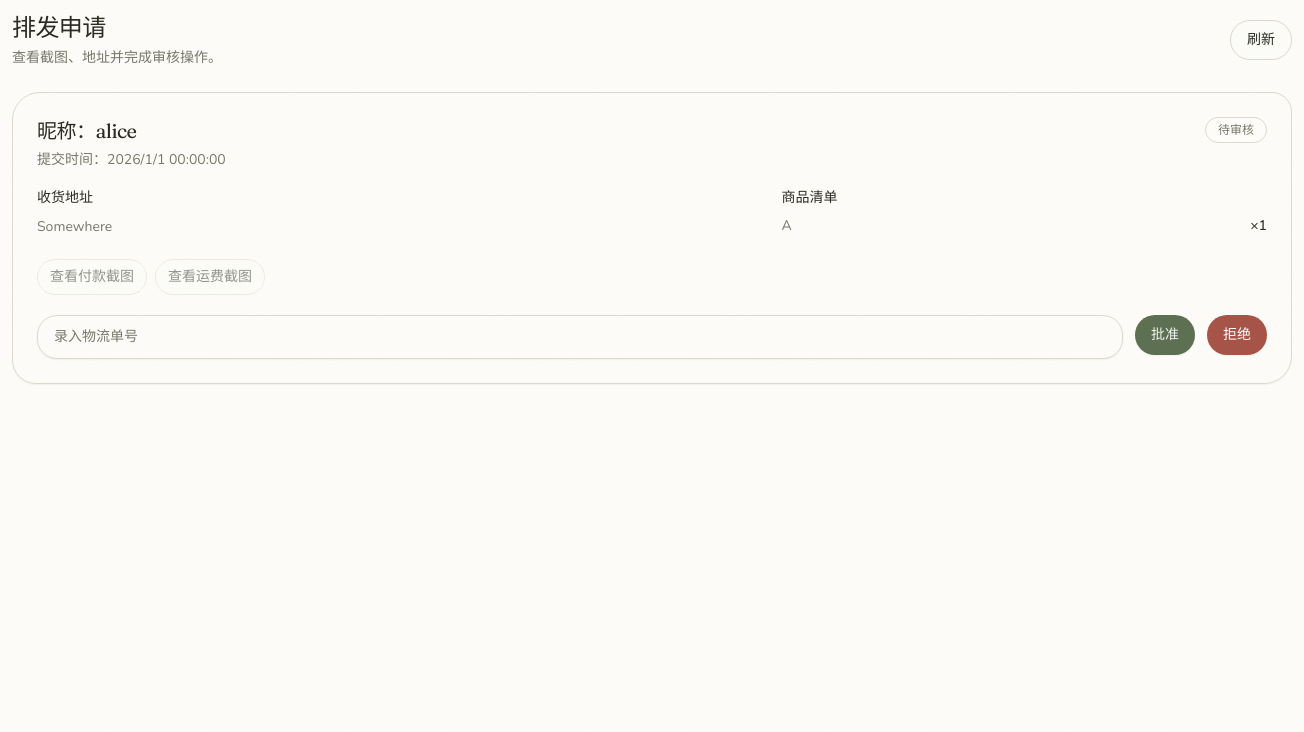
it: RequestList shows approve API errors
Expected: the heading "昵称：alice" is shown, [37,118,136,143]
In the field named "tracking number for alice": (580, 336) [37,314,1123,358], type "SF123"
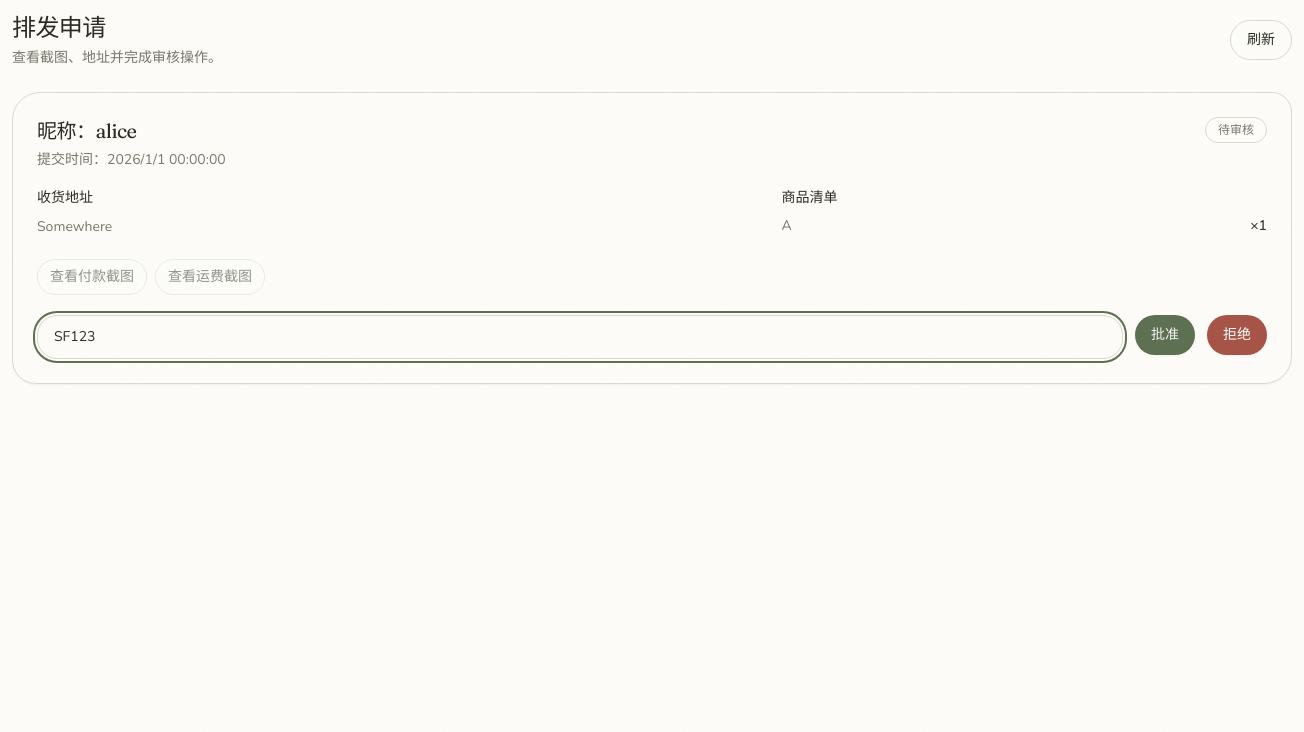
Click the button "批准": (1165, 334) [1135,314,1195,354]
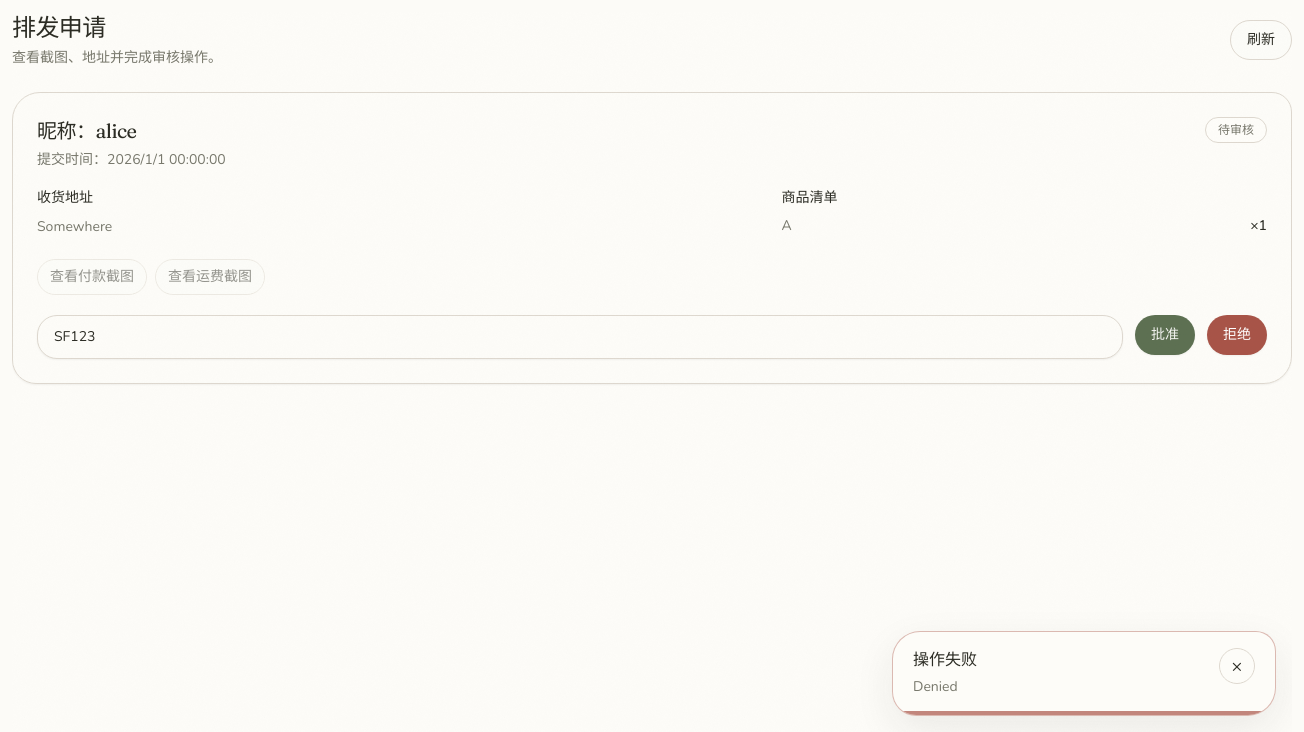
Expected: the text "待审核" is shown, [1205,117,1267,143]
Expected: the text "操作失败" is shown, [913,649,977,671]
Expected: the text "Denied" is shown, [913,677,958,696]
